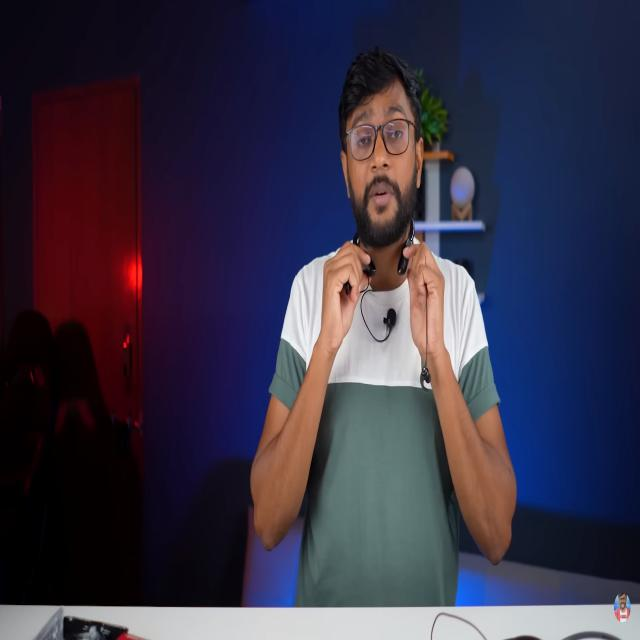Neckband: (352, 215, 432, 394)
